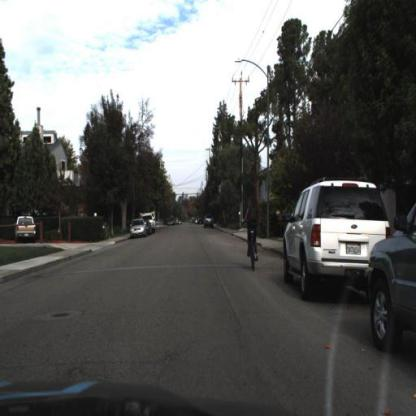biker: (243, 196, 262, 276)
car: (283, 173, 393, 298), (278, 174, 393, 293), (364, 198, 416, 361), (14, 213, 40, 245), (130, 218, 151, 241), (130, 219, 147, 238), (203, 208, 216, 231)
